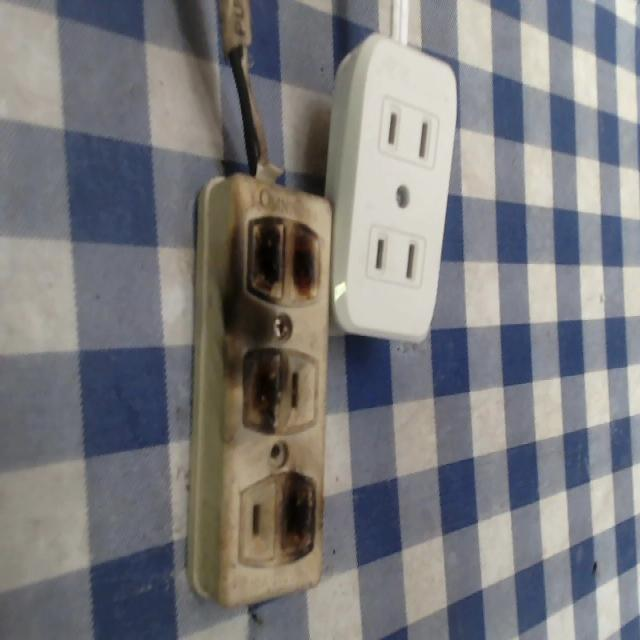-: (246, 205, 334, 304), (236, 335, 285, 421), (274, 470, 323, 554)
